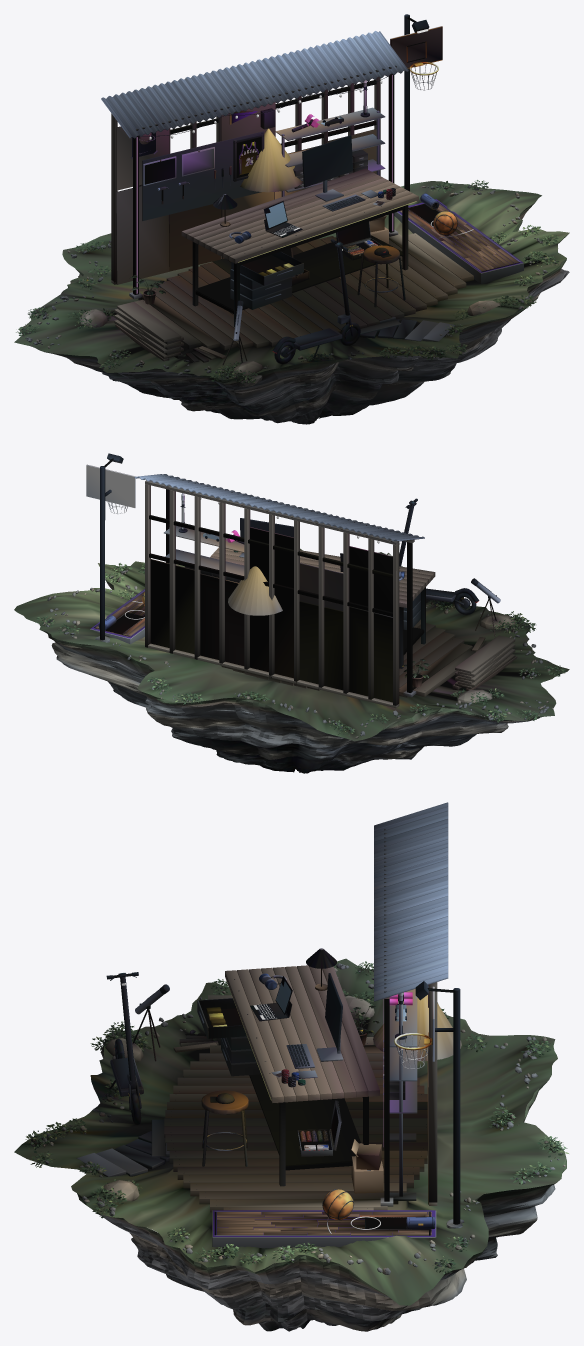
File: flight-projects-4369884f.glb
3 views of the same model, one above another, from view 1: azimuth 30°, elevation 25°; view 2: azimuth 150°, elevation 25°; view 3: azimuth 270°, elevation 25° (orthographic). The views are drawn at different scales.
Visible parts, largest first — view 1: Projects island · flight.001; view 2: Projects island · flight.001; view 3: Projects island · flight.001.
Boxes of the visible parts, bbox=[...] form: Projects island · flight.001: bbox=[14, 14, 569, 424]; Projects island · flight.001: bbox=[14, 453, 569, 773]; Projects island · flight.001: bbox=[14, 802, 568, 1331].
Bounding box in the file's own units: 12.7 × 7.34 × 8.69.
